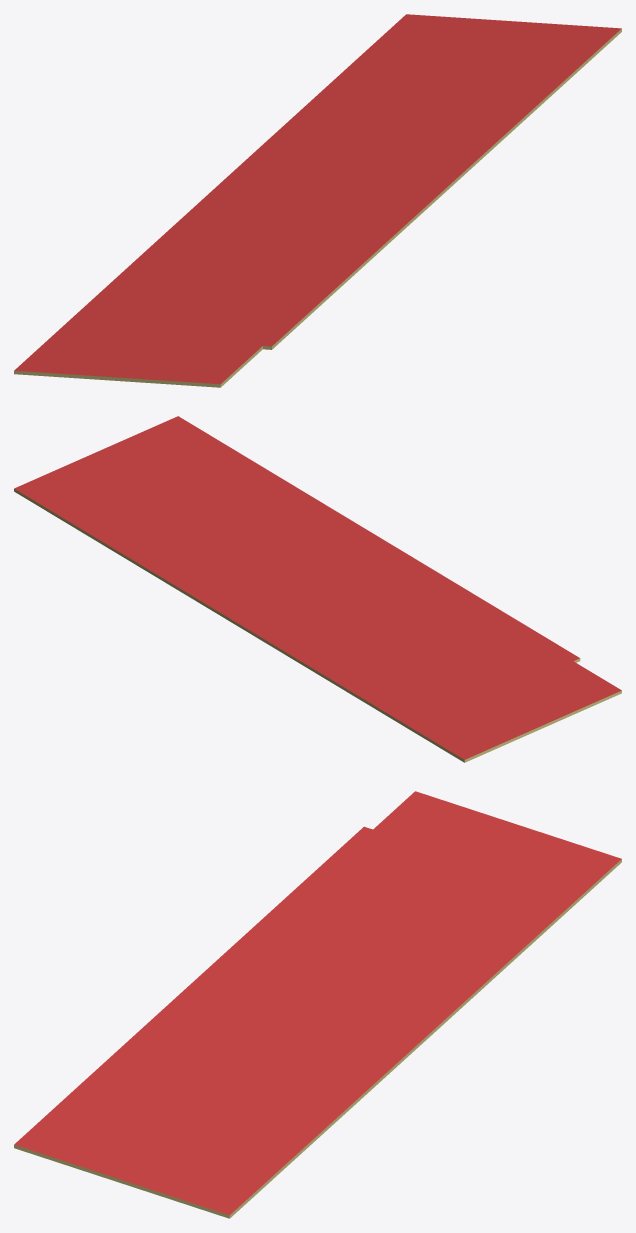
3 views of the same model, one above another, from view 1: azimuth 90°, elevation 25°; view 2: azimuth 150°, elevation 25°; view 3: azimuth 270°, elevation 25° (orthographic). The views are drawn at different scales.
Size of the model in its own units: 24.45 by 15.82 by 0.911.
